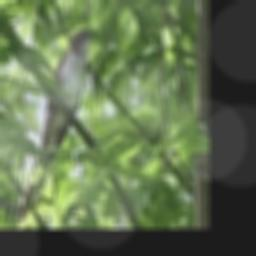Cuckoo: (17, 28, 96, 225)
